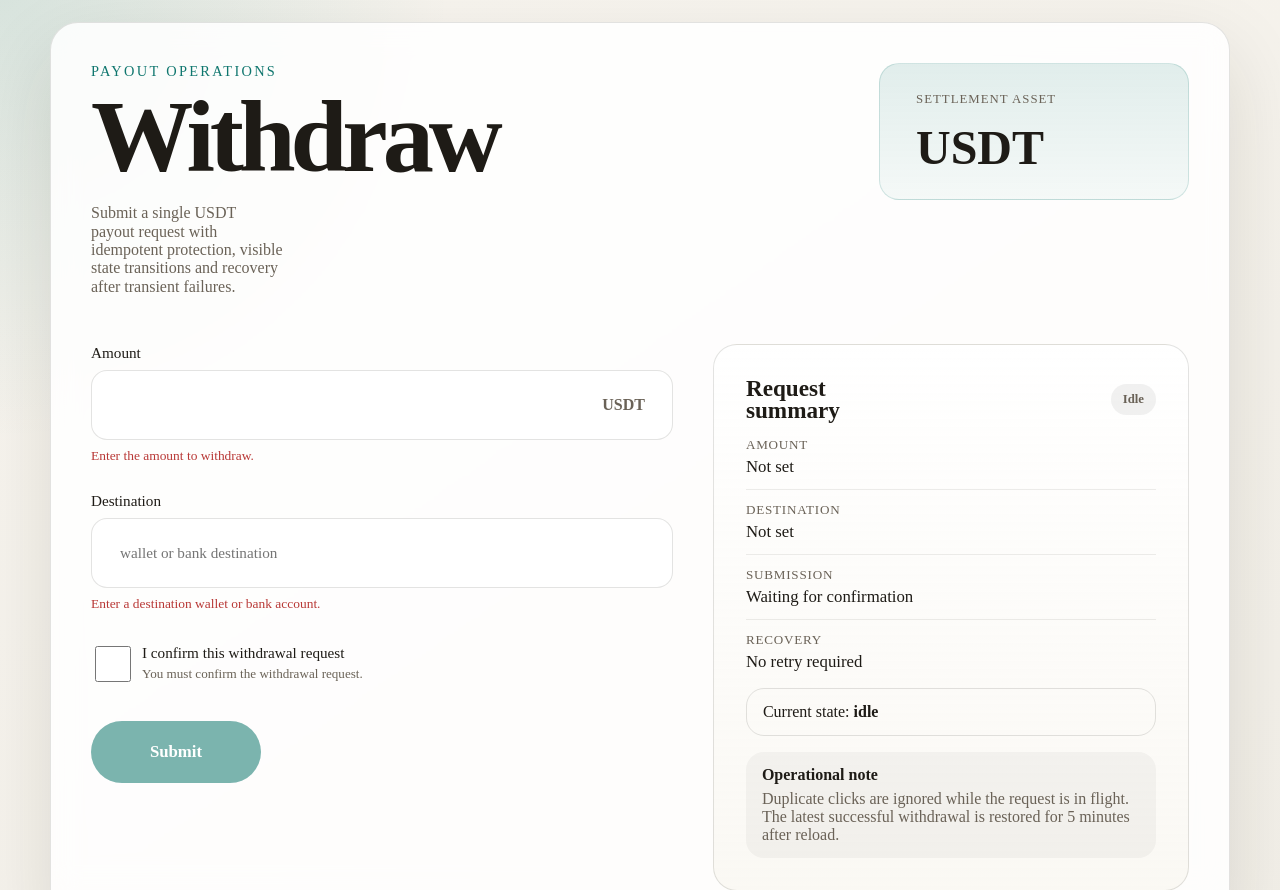
Test: Withdraw page › submits successfully and shows created withdrawal status
The image size is (1280, 890).
Type "150" into the number field labelled "Amount USDT" at (382, 405), box top-left (91, 370), bottom-right (673, 440)
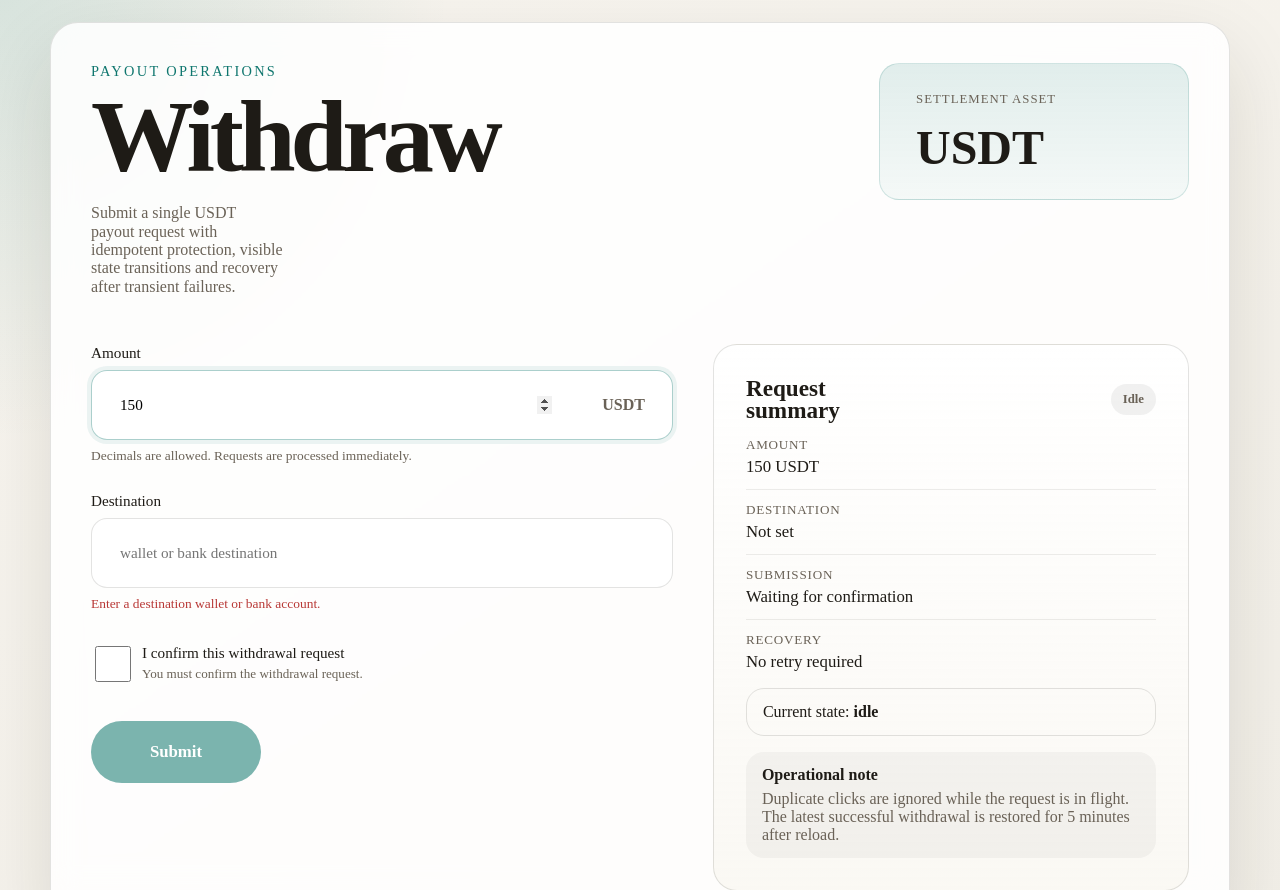
Type "0xabc123" into the field labelled "Destination" at (382, 553), box top-left (91, 518), bottom-right (673, 588)
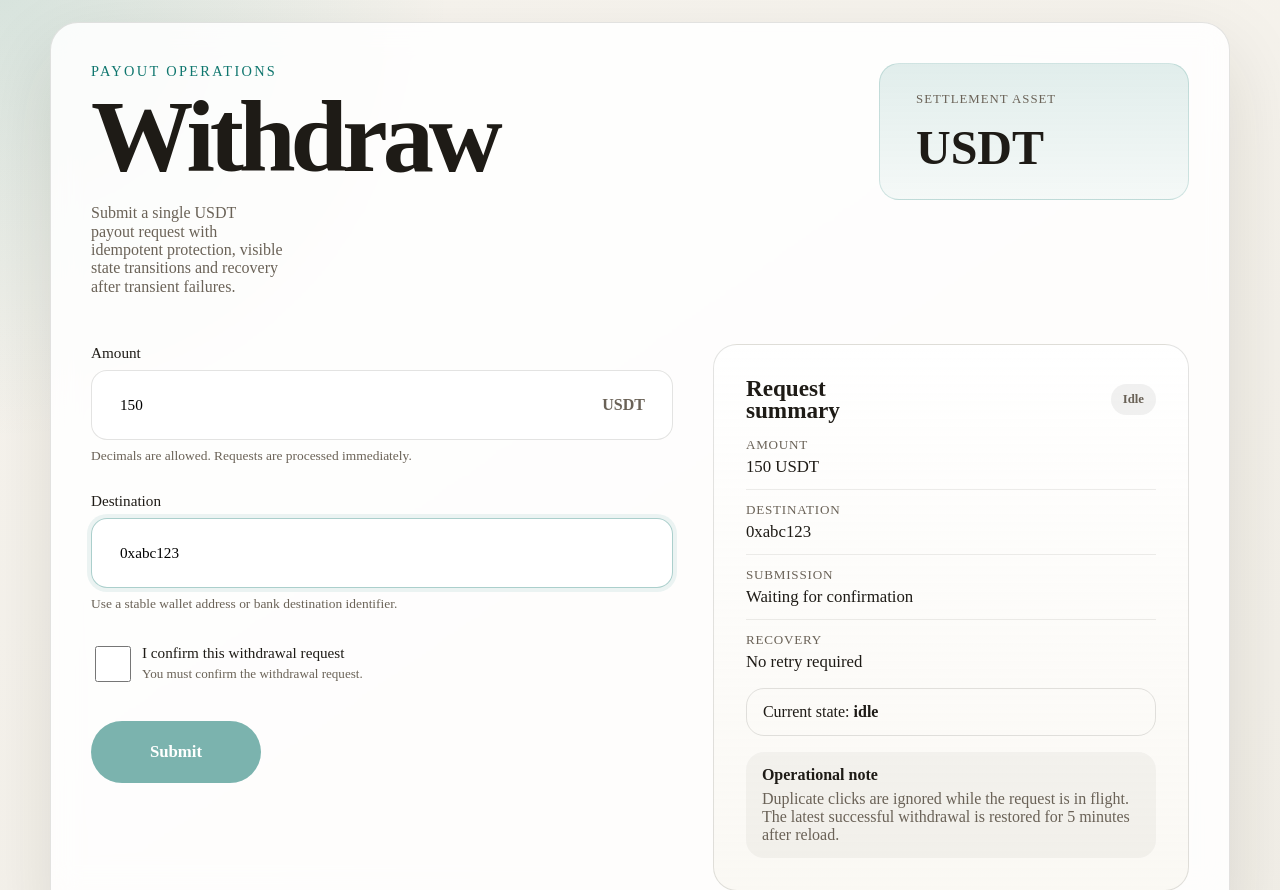
Click the checkbox labelled "I confirm" at (113, 664), box top-left (95, 646), bottom-right (131, 682)
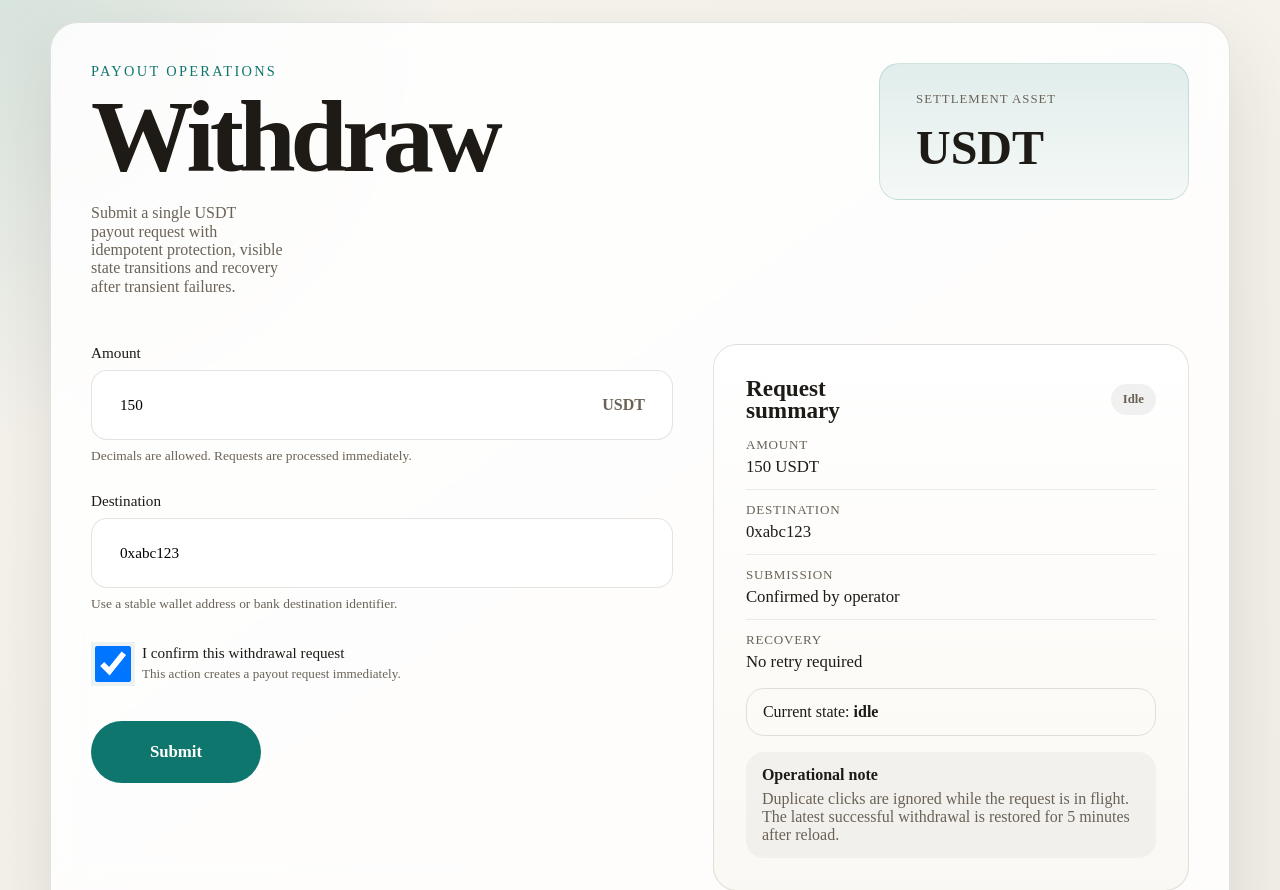
Click the button "Submit" at (176, 752), box top-left (91, 721), bottom-right (261, 783)
(page scrolled)
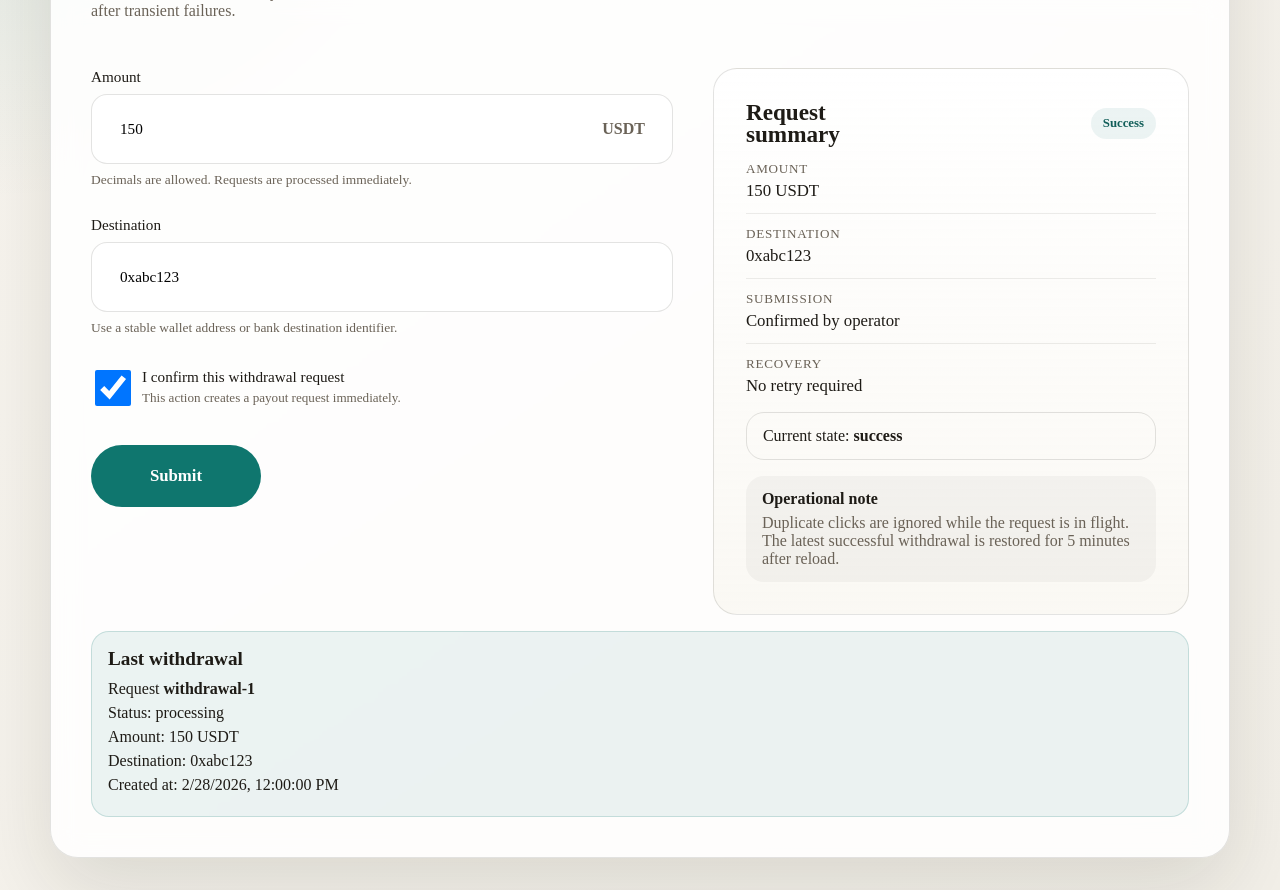
Expected: the text "Current state: success" is shown, top-left (746, 412), bottom-right (1156, 460)
Expected: the text "withdrawal-1" is shown, top-left (164, 680), bottom-right (255, 697)
Expected: the text "Status: processing" is shown, top-left (108, 704), bottom-right (224, 721)
